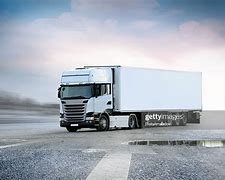bigtruck: (51, 59, 204, 136)
